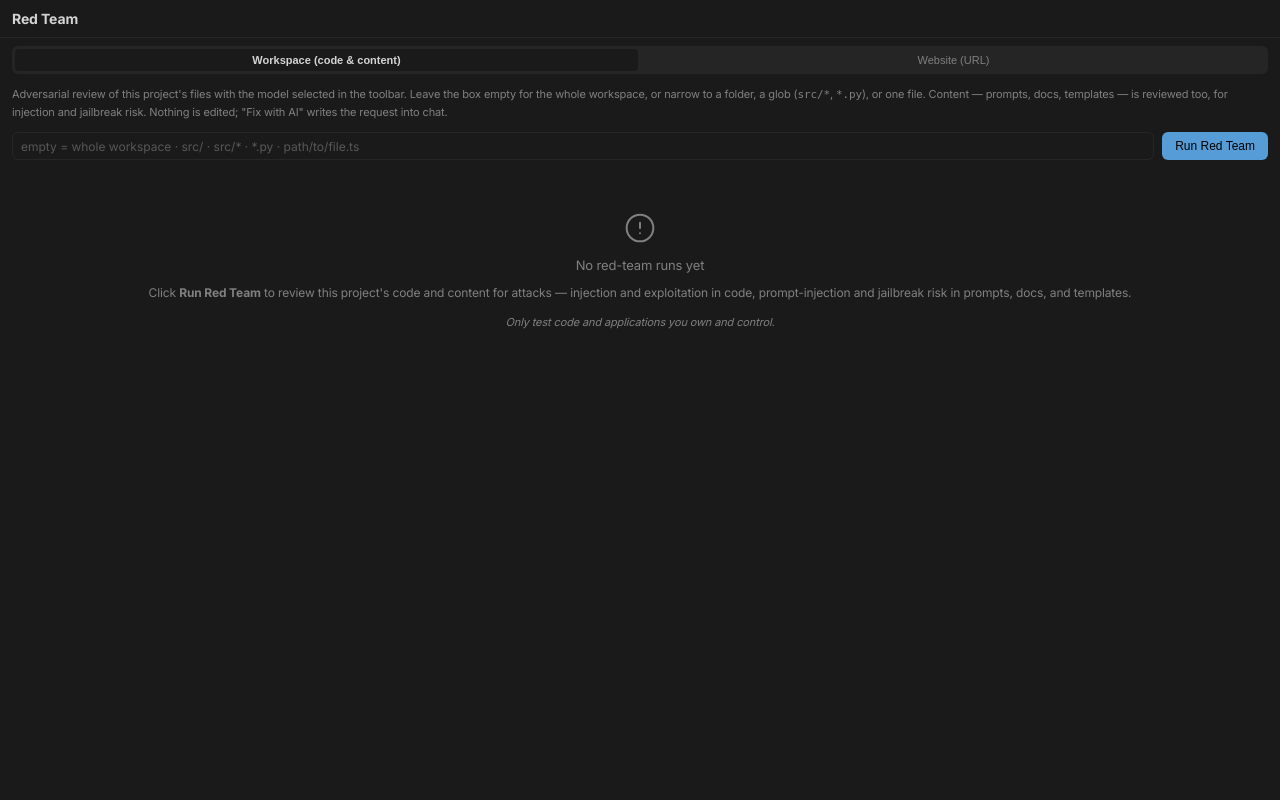
Scenario: Red Team — workspace mode › reviews every file the scope resolves to and shows the findings
The width and height of the screenshot is (1280, 800).
Click the button "Run Red Team" at (1215, 146), box [1162,132,1268,160]
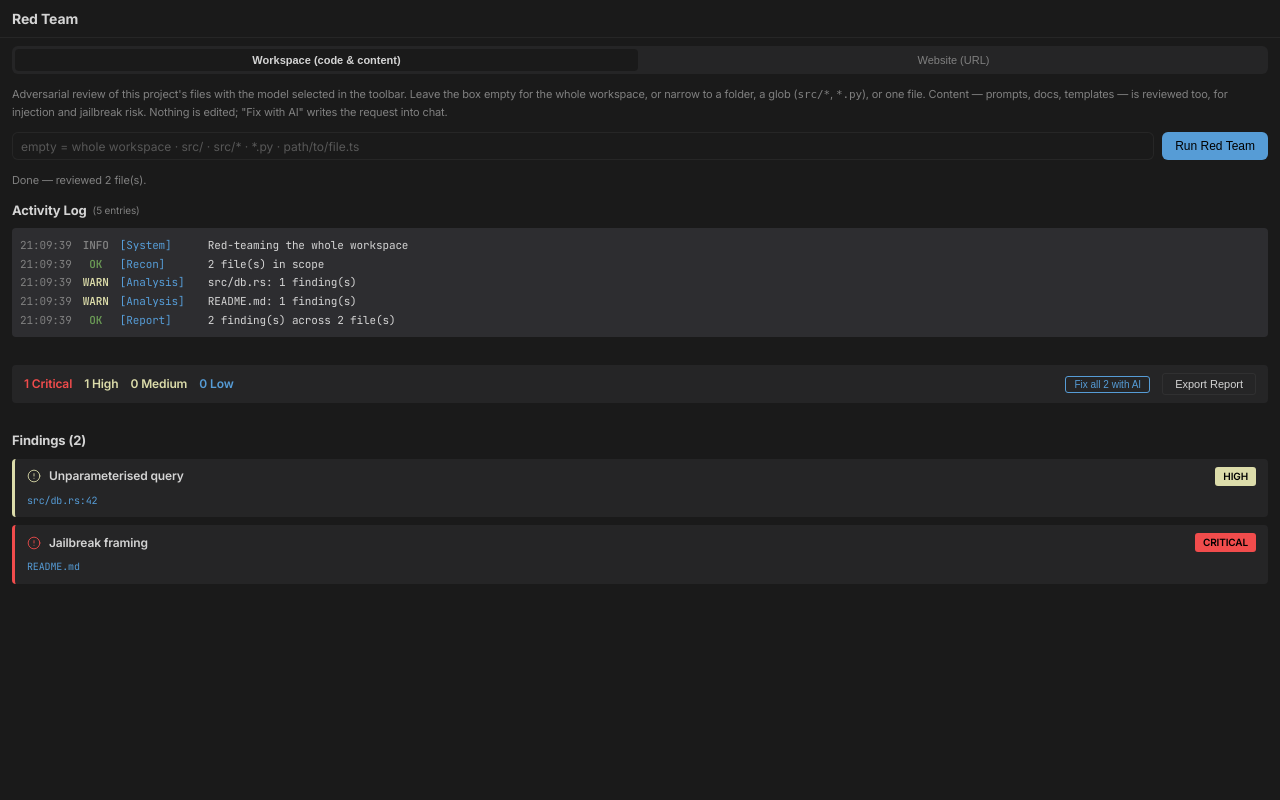
Expected: the heading "Findings (2)" is shown, [12,432,86,448]
Expected: the text "Unparameterised query" is shown, [49,468,184,483]
Expected: the text "Jailbreak framing" is shown, [49,535,148,550]
